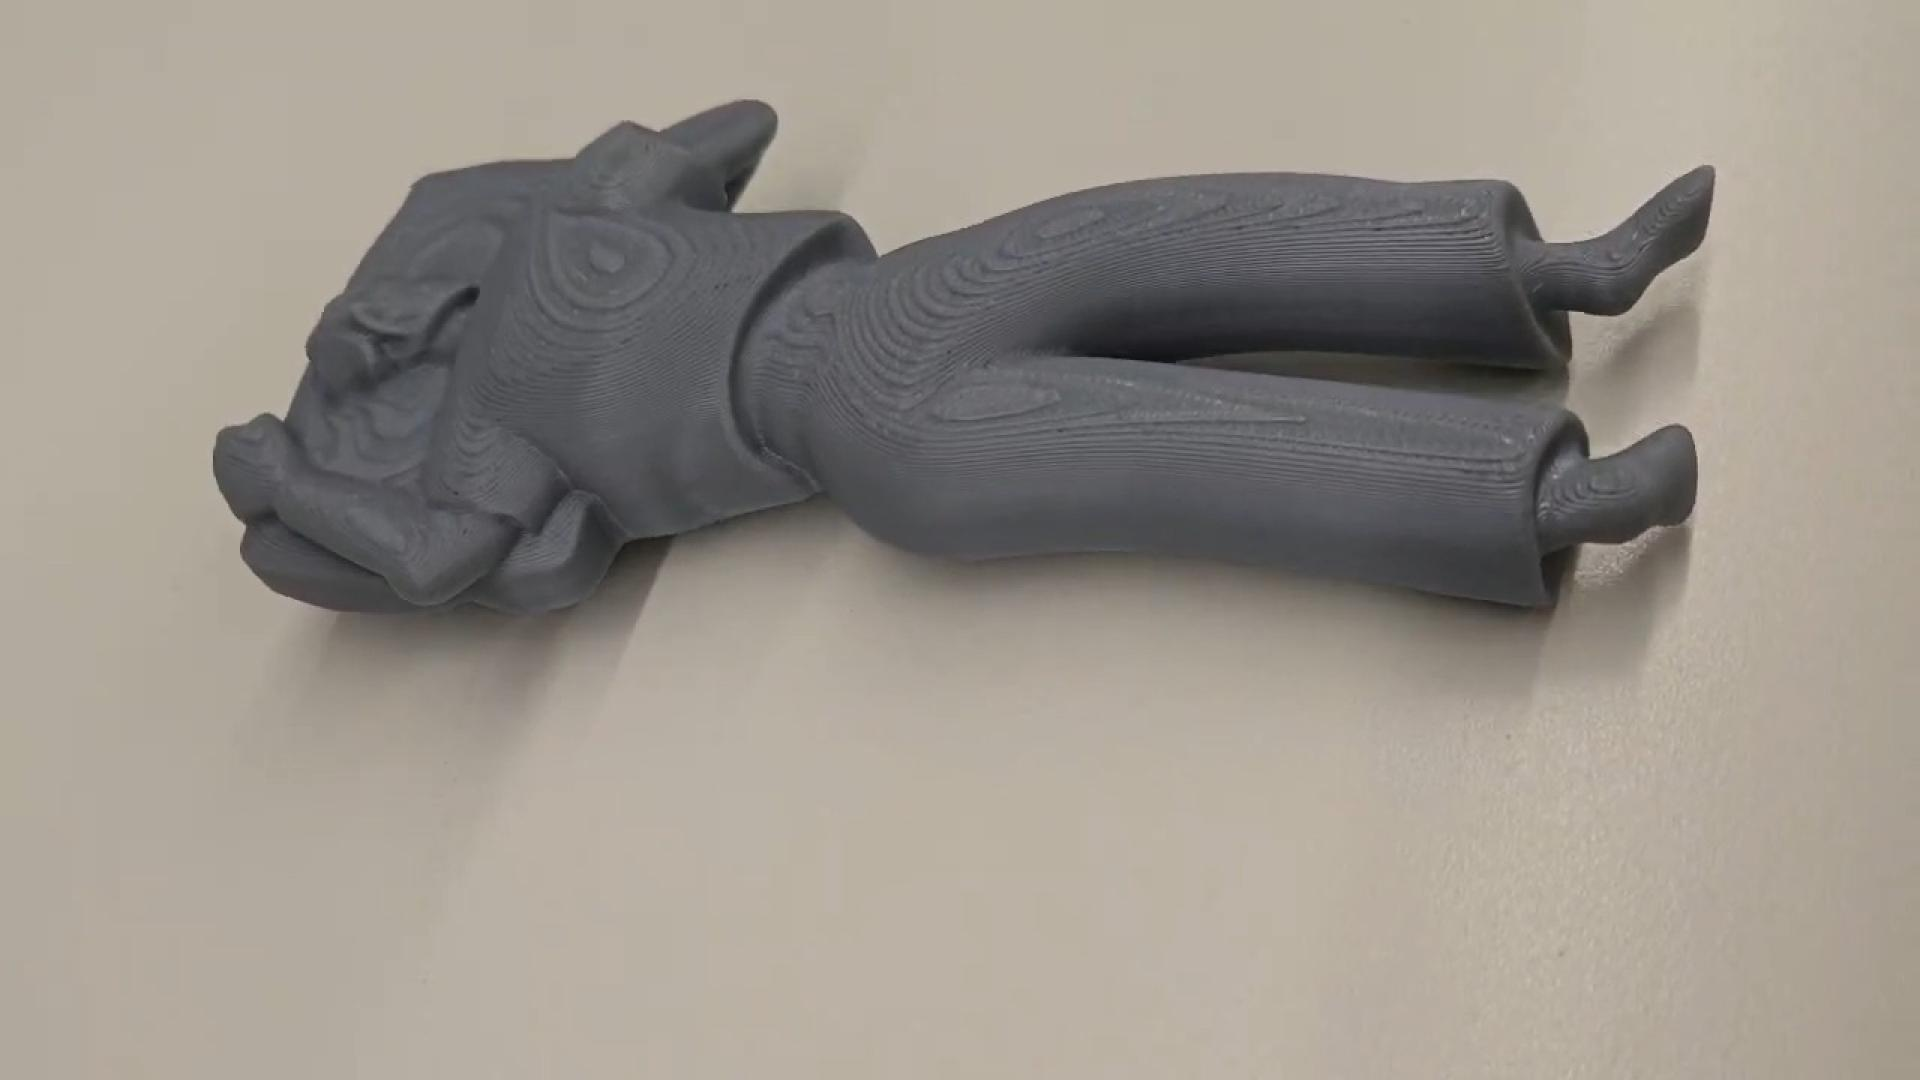Bad-style: (202, 88, 1720, 646)
